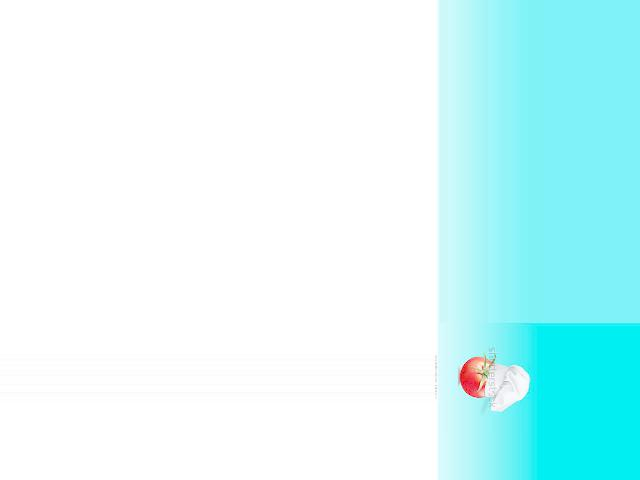tomato: (460, 357, 494, 398)
